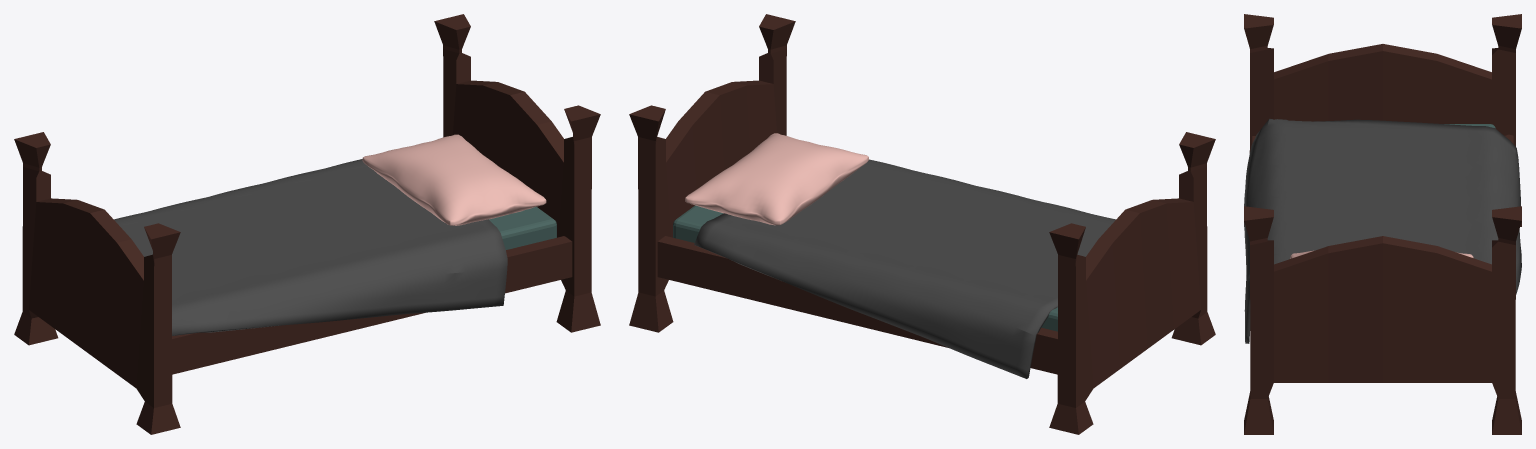
The model's file is krovat.fbx.
The picture shows the model from 3 angles, left to right: view 1: azimuth 30°, elevation 25°; view 2: azimuth 150°, elevation 25°; view 3: azimuth 270°, elevation 25°; orthographic projection.
Parts seen in each view (by area): view 1: Plane, Cube.002, Cube.001, Grid, Cube, Cube.003; view 2: Plane, Cube.002, Cube.001, Grid, Cube, Cube.003; view 3: Cube.001, Plane, Cube.002.
Part boxes in pixels (x1,y1,x2,y2): Plane: (114, 159, 507, 335); Cube.002: (14, 132, 180, 434); Cube.001: (434, 14, 600, 332); Grid: (362, 134, 546, 225); Cube: (172, 236, 572, 374); Cube.003: (489, 206, 556, 249); Plane: (694, 159, 1115, 378); Cube.002: (1049, 132, 1215, 434); Cube.001: (629, 14, 795, 332); Grid: (685, 133, 868, 225); Cube: (657, 236, 1057, 374); Cube.003: (673, 205, 1057, 331); Cube.001: (1244, 206, 1521, 434); Plane: (1244, 118, 1521, 343); Cube.002: (1244, 14, 1521, 226).
Size of the model in its own units: 878 by 394 by 463.
